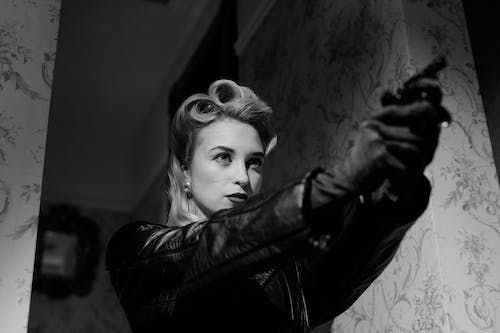gun: (378, 49, 451, 108)
